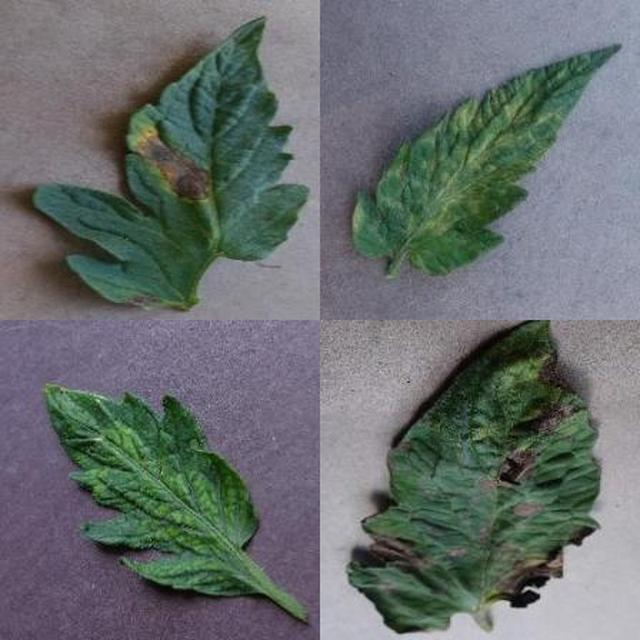Early Blight Leaf: (218, 228, 640, 640)
